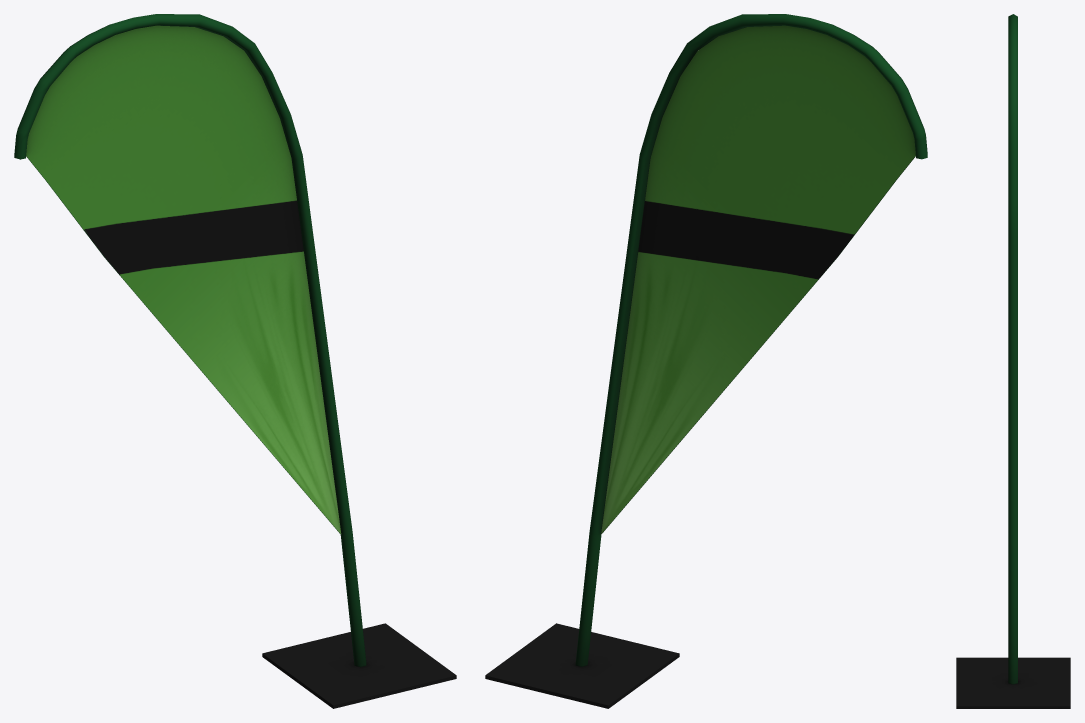
File: Flag_05_1.fbx
3 views of the same model, side by side, from view 1: azimuth 30°, elevation 25°; view 2: azimuth 150°, elevation 25°; view 3: azimuth 270°, elevation 25° (orthographic). The views are drawn at different scales.
Parts seen in each view (by area): view 1: Flag, Stand, Base; view 2: Flag, Stand, Base; view 3: Stand, Base.
Boxes of the visible parts, bbox=[...] form: Flag: bbox=[26, 25, 341, 534]; Stand: bbox=[14, 14, 366, 667]; Base: bbox=[262, 623, 456, 708]; Flag: bbox=[601, 25, 915, 534]; Stand: bbox=[575, 14, 927, 666]; Base: bbox=[485, 623, 679, 708]; Stand: bbox=[1008, 14, 1017, 684]; Base: bbox=[956, 657, 1070, 708].
Size of the model in its own units: 0.1319 by 0.2186 by 0.04.
